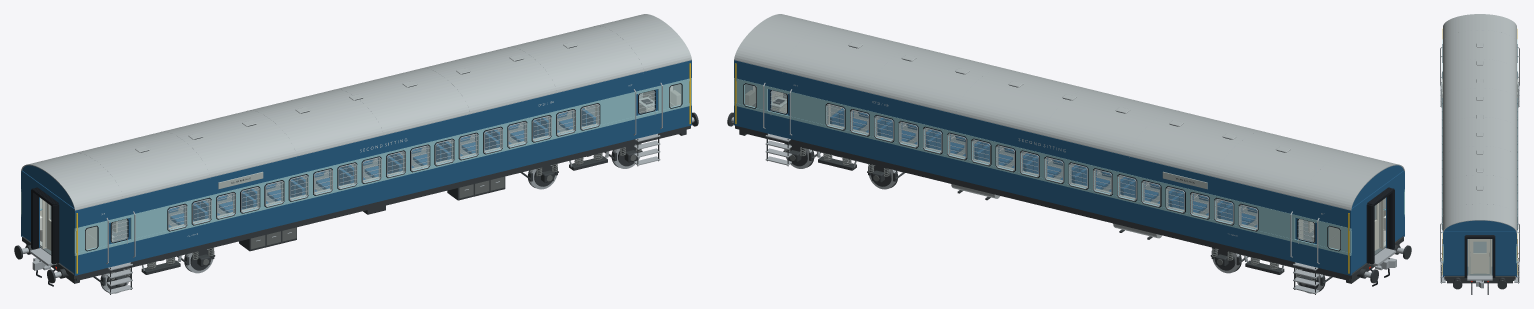
The model's file is ICF_2S.fbx.
3 renders of one model, left to right at view 1: azimuth 30°, elevation 25°; view 2: azimuth 150°, elevation 25°; view 3: azimuth 270°, elevation 25°, orthographic. The views are drawn at different scales.
Parts seen in each view (by area): view 1: Pressed steel roof shell, Lower blue bodyside, Upper blue letterboard, Structural coach floor, Cyan horizontal window band, Longitudinal underframe solebar, Cyan horizontal window band.001, Finished lino floor, Coach end wall, Window zone pier.002, Window zone pier.020, Coach end wall.001 (+1 smaller); view 2: Pressed steel roof shell, Lower blue bodyside.001, Upper blue letterboard.001, Structural coach floor, Cyan horizontal window band.002, Longitudinal underframe solebar.001, Cyan horizontal window band.003, Finished lino floor, Coach end wall.001, Window zone pier.024, Window zone pier.042, Coach end wall (+1 smaller); view 3: Pressed steel roof shell, Coach end wall.002, Coach end wall.003, Curved end roof cap.001, Vestibule lower door.001, Finished lino floor, End top header.001, Buffer beam, Cyan horizontal window band.001, Cyan horizontal window band.003, Structural coach floor, Gangway bellows pleat.026 (+9 smaller).
Boxes of the visible parts, box(x1,y1,x2,y2) form: Pressed steel roof shell: box(21, 14, 691, 210); Lower blue bodyside: box(74, 105, 691, 275); Upper blue letterboard: box(74, 60, 691, 228); Structural coach floor: box(22, 125, 690, 278); Cyan horizontal window band: box(74, 103, 691, 255); Longitudinal underframe solebar: box(75, 129, 686, 280); Cyan horizontal window band.001: box(74, 78, 691, 231); Finished lino floor: box(40, 105, 595, 254); Coach end wall: box(57, 198, 74, 273); Window zone pier.002: box(130, 208, 167, 239); Window zone pier.020: box(598, 94, 635, 124); Coach end wall.001: box(22, 172, 39, 247); Pressed steel roof shell: box(734, 14, 1404, 210); Lower blue bodyside.001: box(734, 105, 1351, 275); Upper blue letterboard.001: box(734, 60, 1351, 230); Structural coach floor: box(735, 125, 1403, 278); Cyan horizontal window band.002: box(734, 103, 1351, 255); Longitudinal underframe solebar.001: box(739, 129, 1350, 280); Cyan horizontal window band.003: box(734, 78, 1351, 231); Finished lino floor: box(830, 105, 1385, 254); Coach end wall.001: box(1351, 199, 1368, 273); Window zone pier.024: box(1258, 208, 1295, 239); Window zone pier.042: box(790, 94, 827, 124); Coach end wall: box(1386, 172, 1403, 247); Pressed steel roof shell: box(1443, 14, 1516, 233); Coach end wall.002: box(1444, 232, 1467, 275); Coach end wall.003: box(1492, 232, 1515, 275); Curved end roof cap.001: box(1444, 220, 1515, 231); Vestibule lower door.001: box(1471, 253, 1488, 273); Finished lino floor: box(1467, 241, 1492, 275); End top header.001: box(1444, 231, 1515, 236); Buffer beam: box(1447, 279, 1512, 283); Cyan horizontal window band.001: box(1442, 39, 1443, 246); Cyan horizontal window band.003: box(1516, 39, 1517, 246); Structural coach floor: box(1444, 276, 1515, 279); Gangway bellows pleat.026: box(1464, 238, 1467, 277).
Bounding box in the file's own units: 350 × 2246 × 408.
